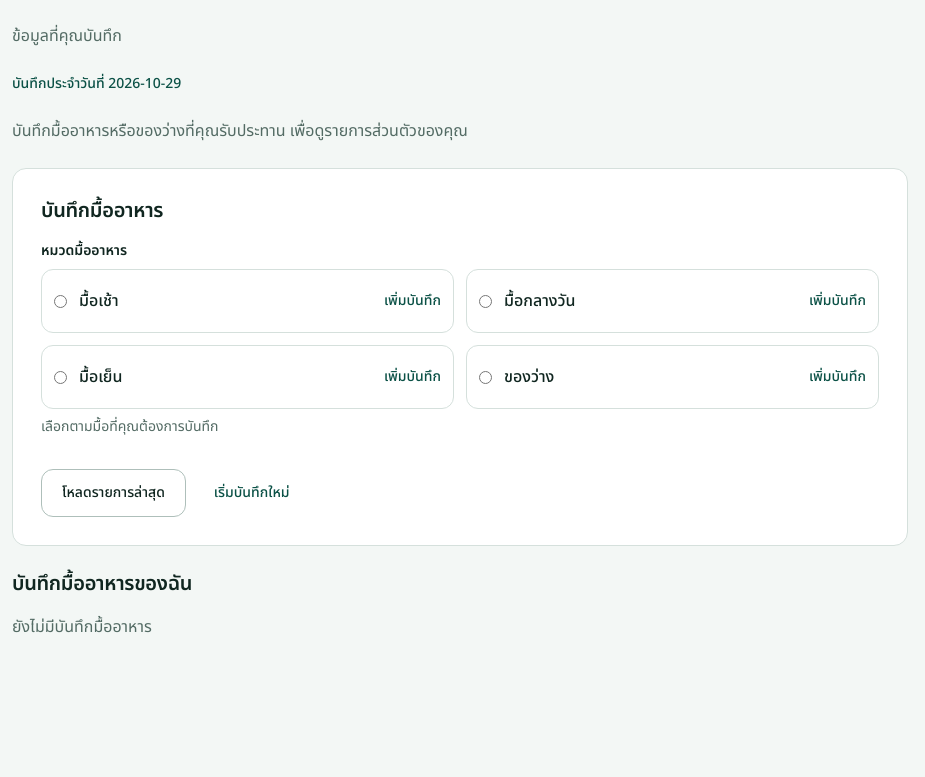
Test: meal create recovery › keeps recovery through a failed retry, then accepts replay as terminal
The width and height of the screenshot is (925, 777).
Click the radio button labelled "ของว่าง เพิ่มบันทึก" at (486, 377), box [479, 371, 492, 384]
(page scrolled)
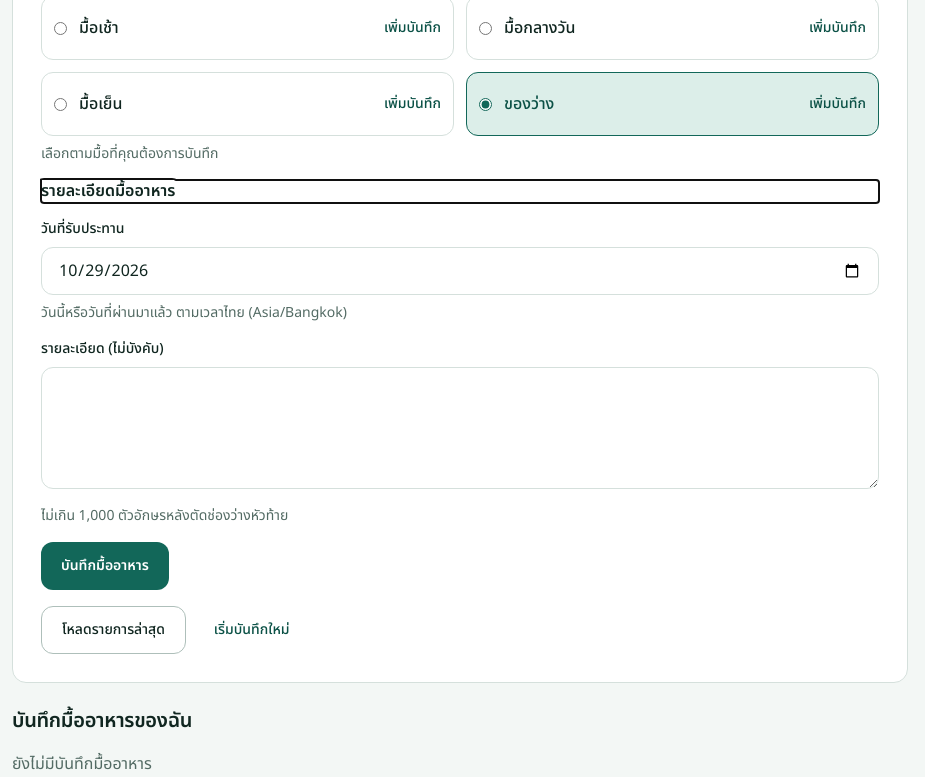
Click the button "บันทึกมื้ออาหาร" at (105, 566), box [41, 542, 169, 590]
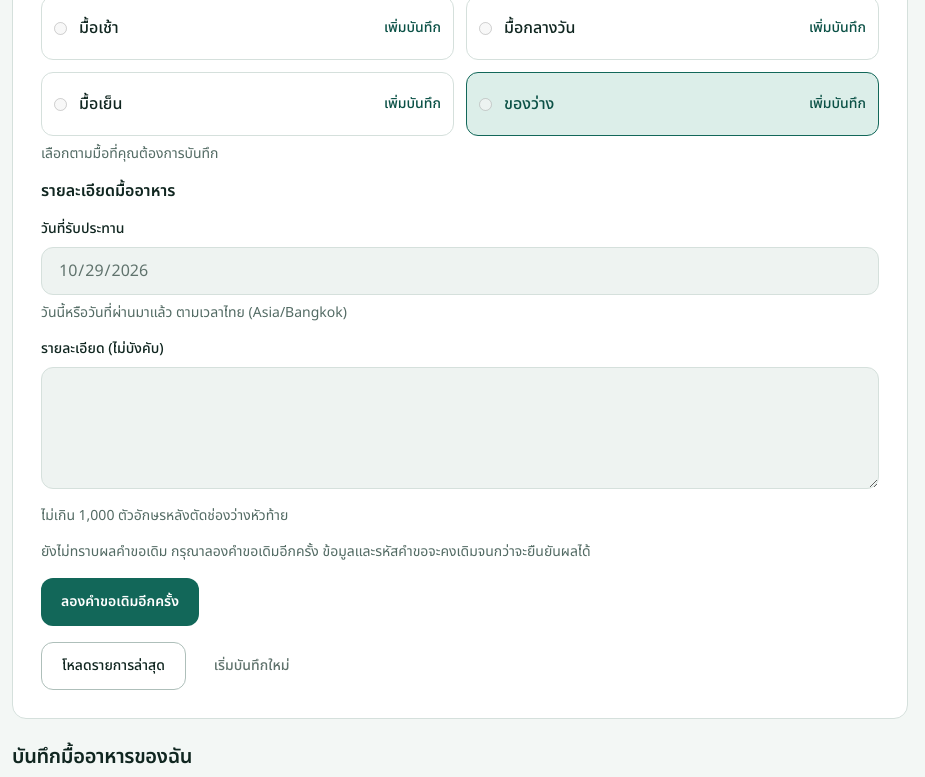
Click the button "ลองคำขอเดิมอีกครั้ง" at (120, 602), box [41, 578, 199, 626]
(page scrolled)
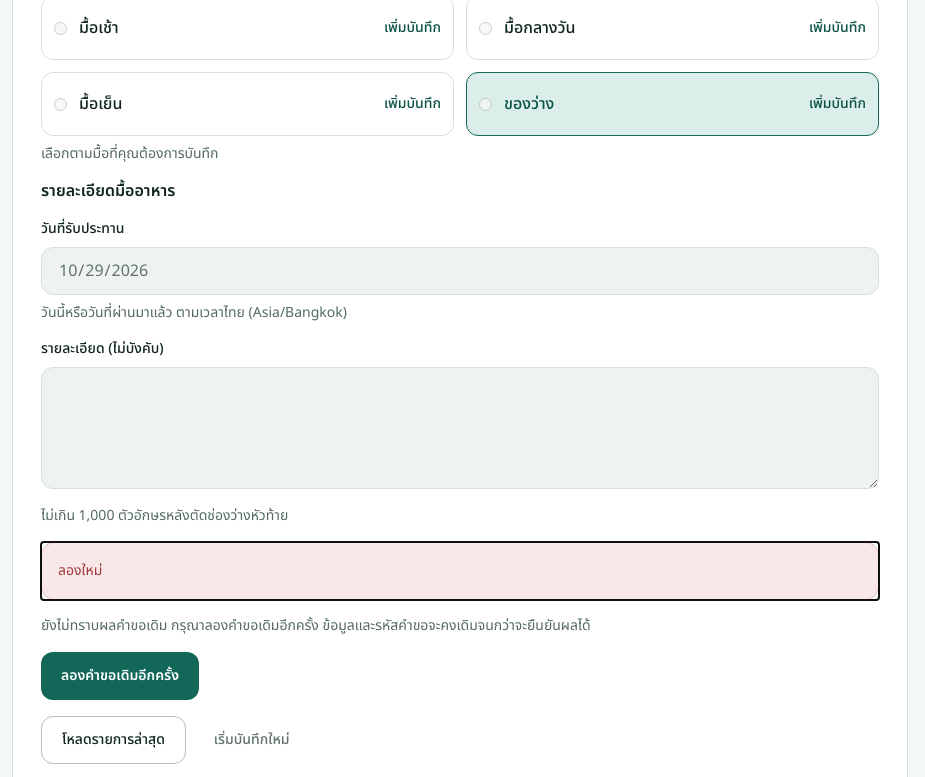
Now the button "เริ่มบันทึกใหม่" is disabled, box [194, 716, 310, 764]
Click the button "ลองคำขอเดิมอีกครั้ง" at (120, 676), box [41, 652, 199, 700]
(page scrolled)
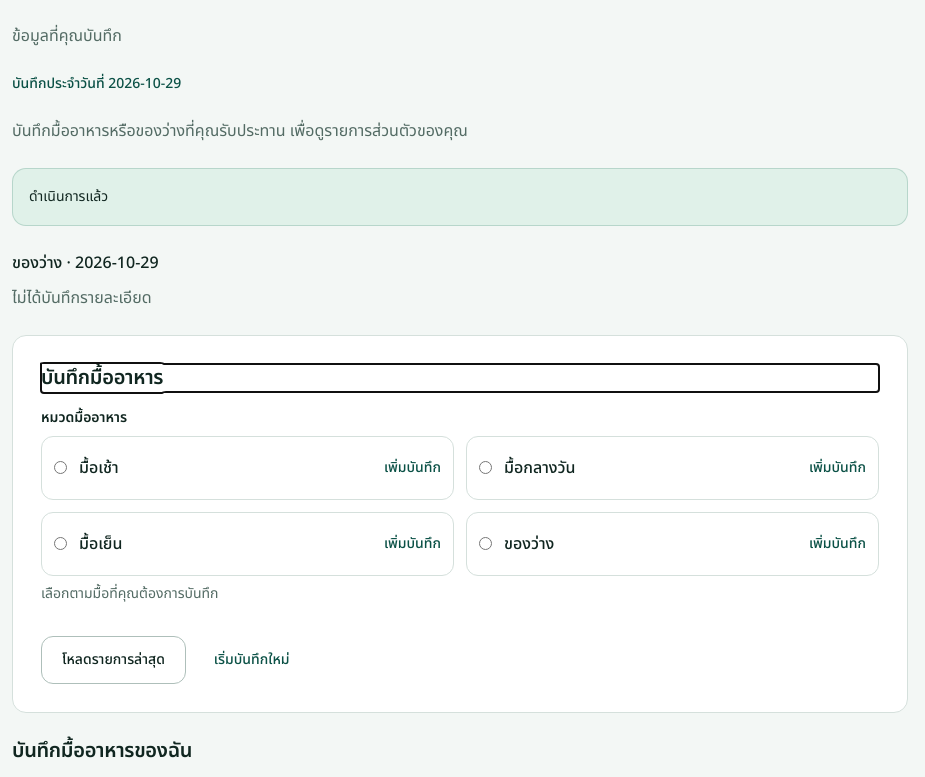
Now the button "เริ่มบันทึกใหม่" is enabled, box [194, 636, 310, 684]
Now the text "ดำเนินการแล้ว" is shown, box [12, 168, 908, 226]
